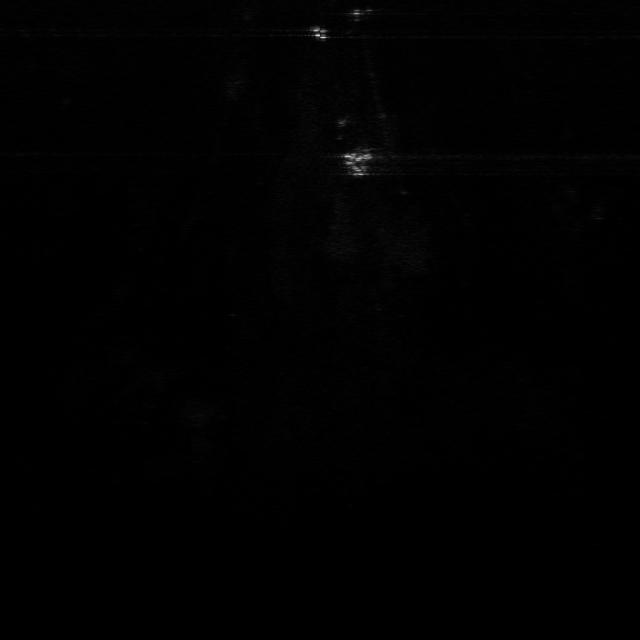rov: (339, 150, 378, 179)
